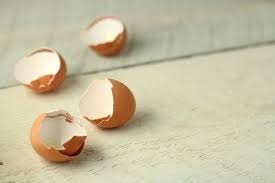kitchen_waste: (23, 106, 97, 170), (78, 74, 140, 134), (10, 45, 74, 97), (82, 12, 132, 61)
